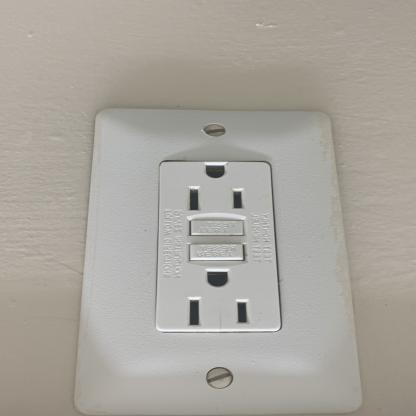OUTLET: (76, 110, 339, 416)
